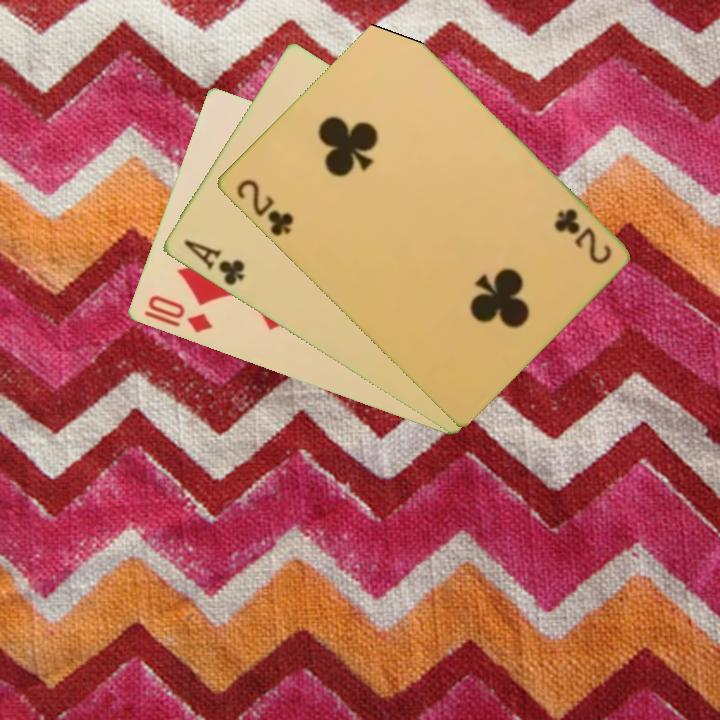10d: (140, 291, 216, 336)
2c: (232, 176, 296, 239), (550, 204, 614, 267)
Ac: (179, 236, 247, 289)
